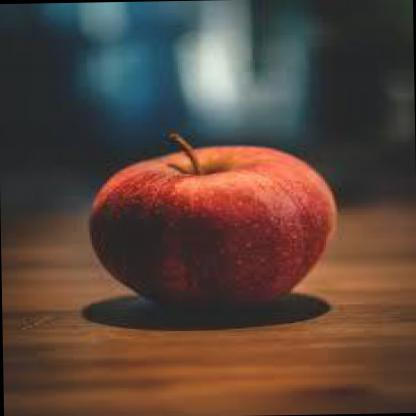apple: (84, 124, 340, 318)
